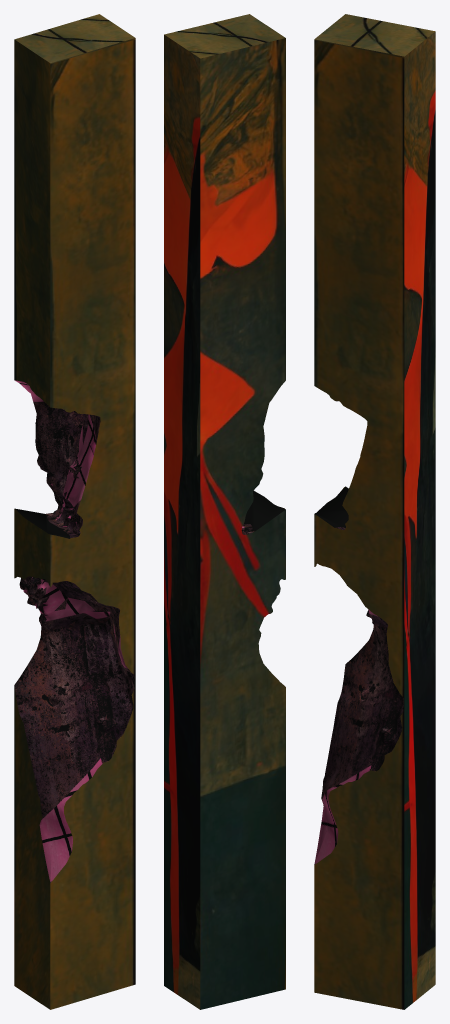
The model's file is column6.glb.
The picture shows the model from 3 angles, left to right: view 1: azimuth 30°, elevation 25°; view 2: azimuth 210°, elevation 25°; view 3: azimuth 330°, elevation 25°; orthographic projection.
Parts seen in each view (by area): view 1: Column.005; view 2: Column.005; view 3: Column.005.
Part boxes in pixels (left/top/right/bottom): Column.005: left=14, top=14, right=135, bottom=1009; Column.005: left=164, top=14, right=285, bottom=1009; Column.005: left=314, top=14, right=435, bottom=1009.
Bounding box in the file's own units: 0.1988 × 2.01 × 0.1368.
2 materials, 2 textured.
